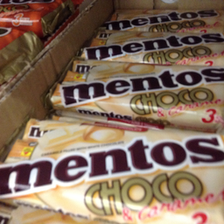candy: (1, 118, 224, 222), (47, 59, 223, 127), (80, 23, 223, 62)
